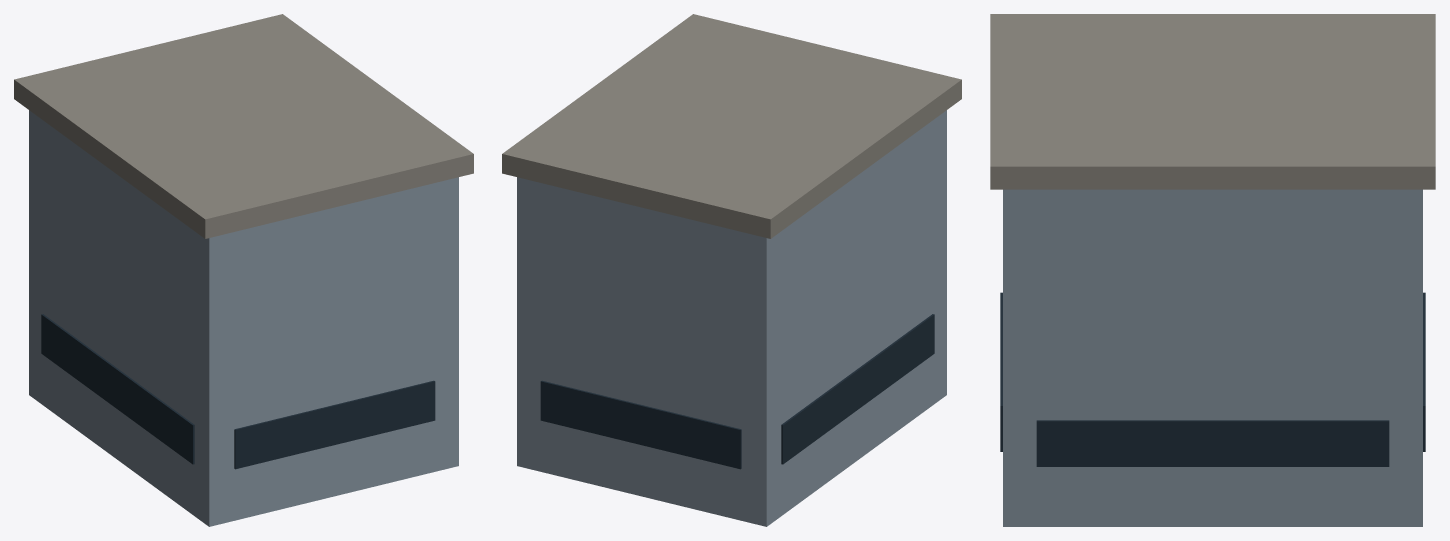
Rendered from Building4.glb.
3 views of the same model, side by side, from view 1: azimuth 30°, elevation 25°; view 2: azimuth 150°, elevation 25°; view 3: azimuth 270°, elevation 25° (orthographic). The views are drawn at different scales.
Visible parts, largest first — view 1: Building4; view 2: Building4; view 3: Building4.
Boxes of the visible parts, left/top/right/bottom form: Building4: left=14, top=14, right=473, bottom=526; Building4: left=502, top=14, right=961, bottom=526; Building4: left=990, top=14, right=1435, bottom=526.
Bounding box in the file's own units: 8.6 × 9.6 × 10.6.
